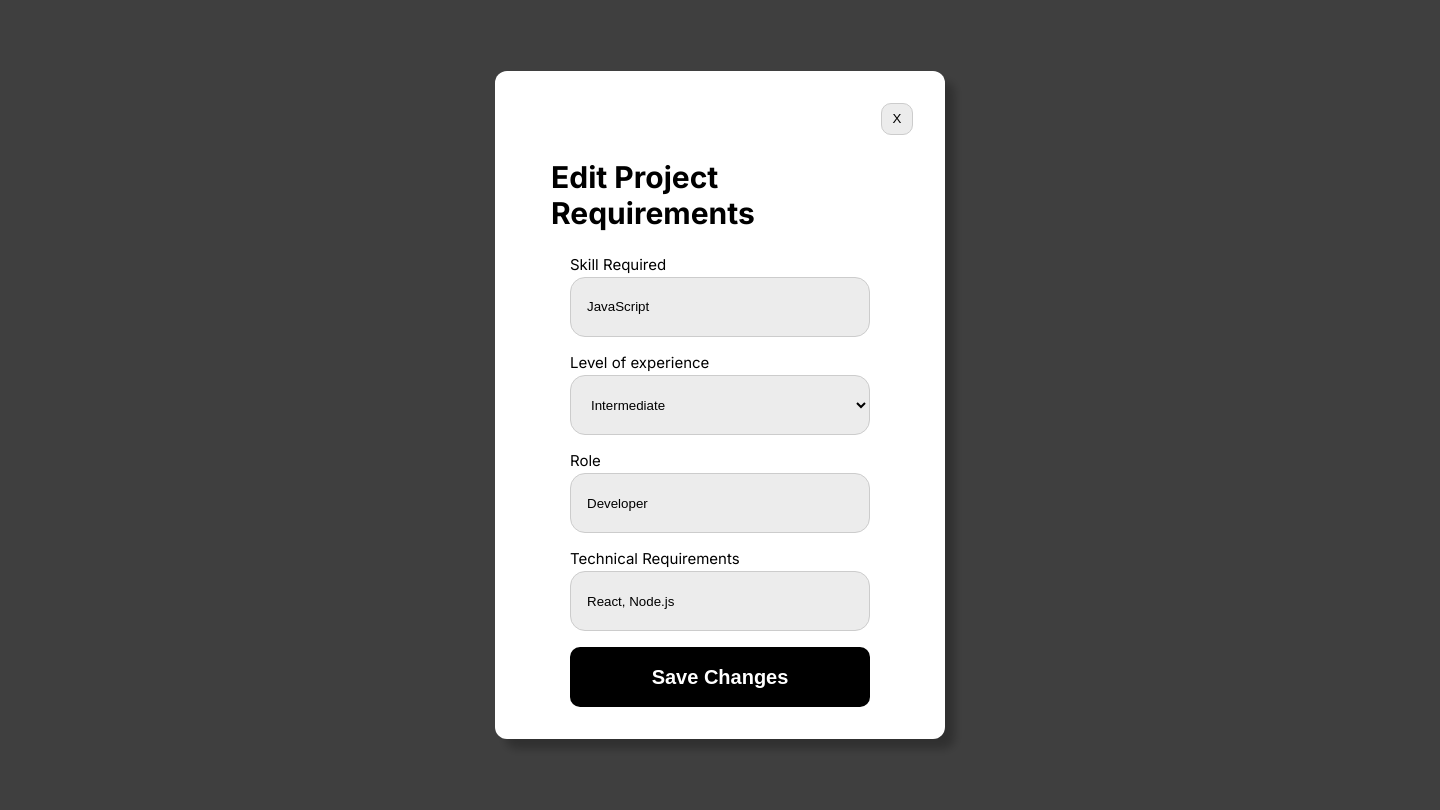
Test case: EditReqForm › shows loading state when submitting
Step 1. Click the button "Save Changes" → (720, 677), box [570,647,870,707]
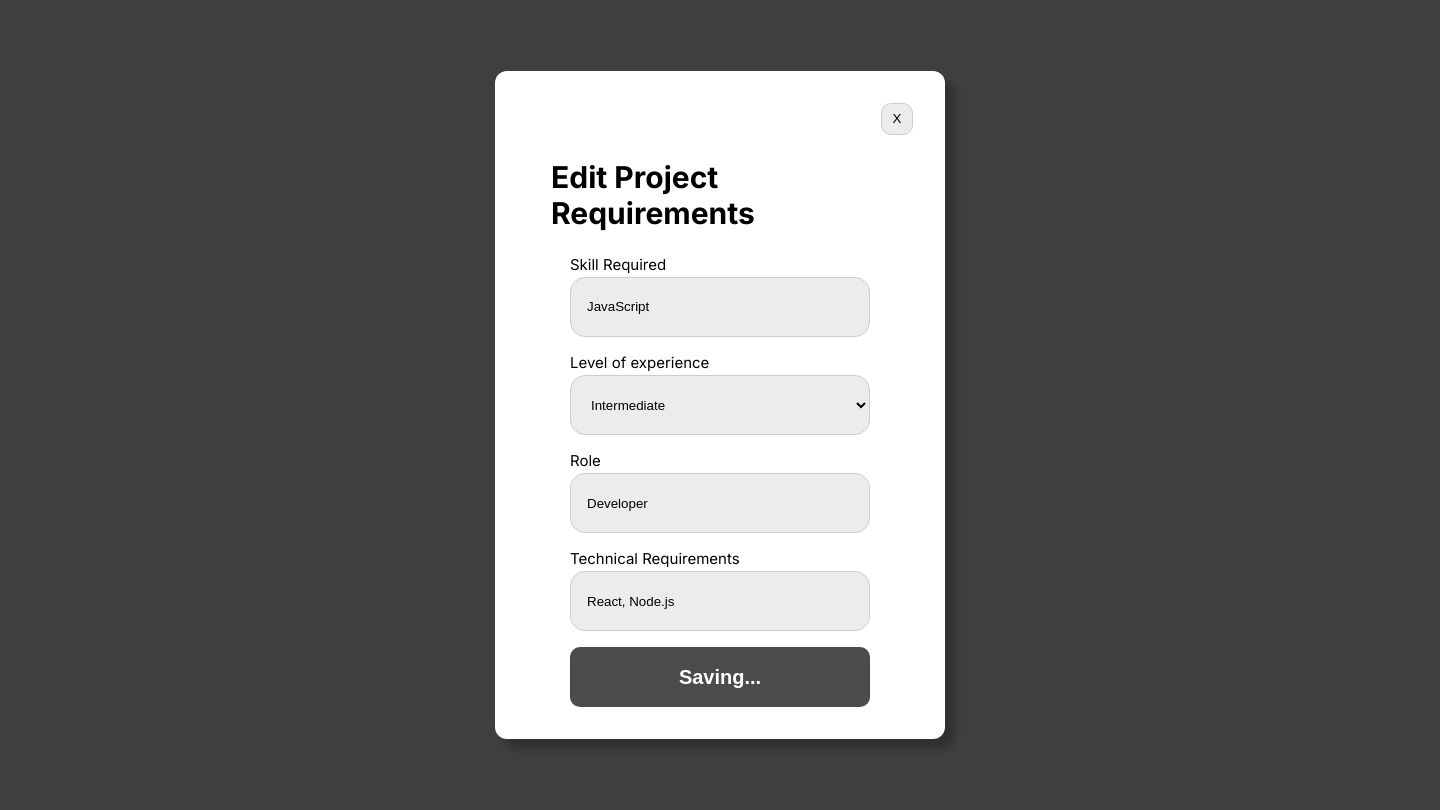
Now the button "Saving..." is disabled, box [570,647,870,707]
